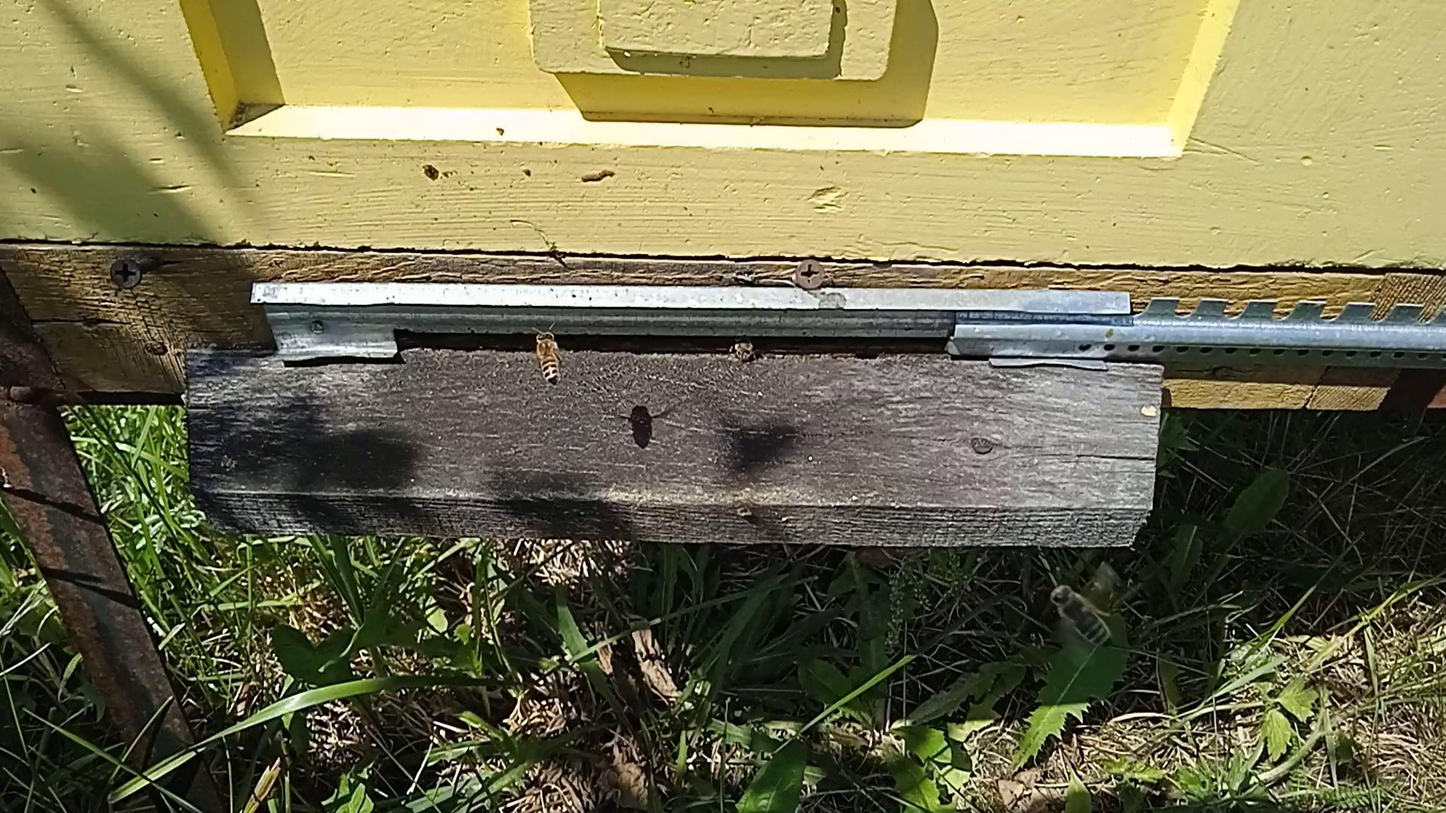worker-bee: (1049, 584, 1111, 646), (534, 330, 563, 385), (727, 335, 757, 364)
